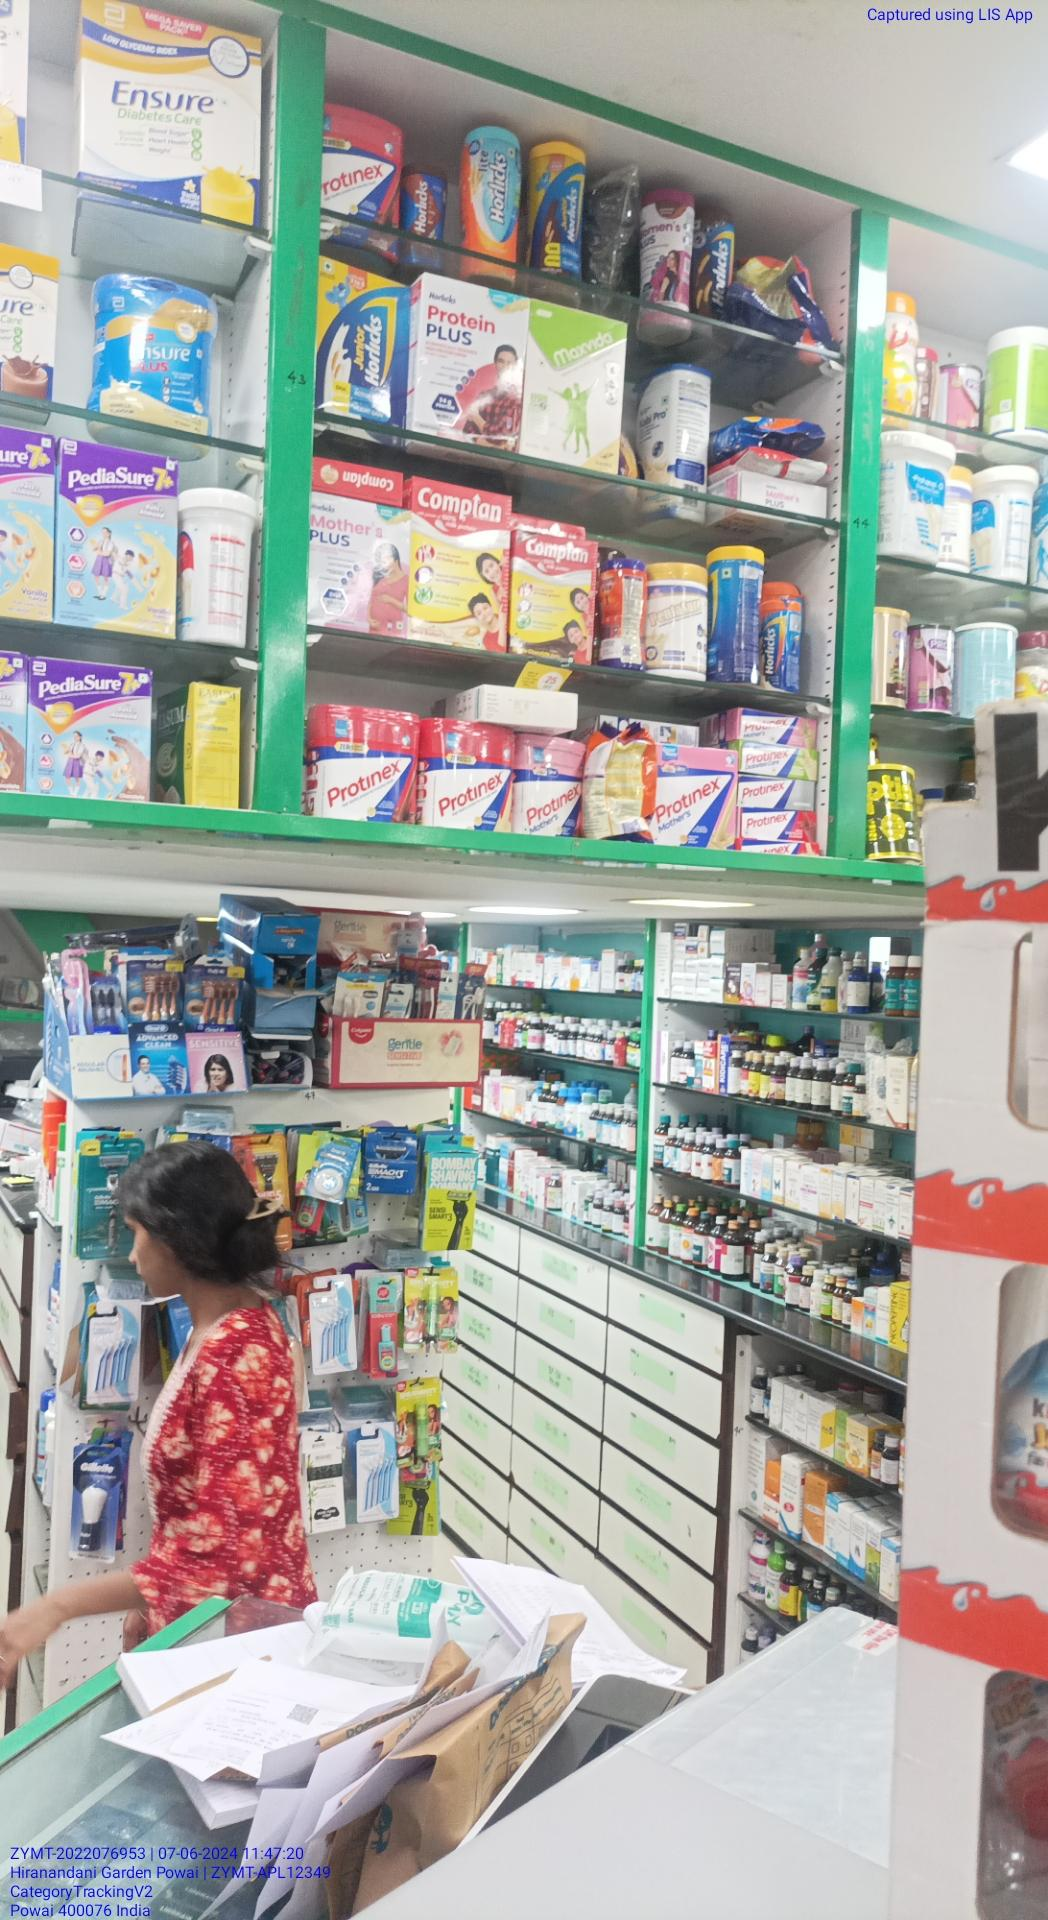HORLICKS_LITE_REGULAR_MALT_500_GM_JAR: (470, 126, 528, 272)
PROTINEX_CHOCOLATE_400_G_JAR: (311, 716, 421, 825)
PROTINEX_VANILLA_400_G_JAR: (430, 724, 509, 827)
